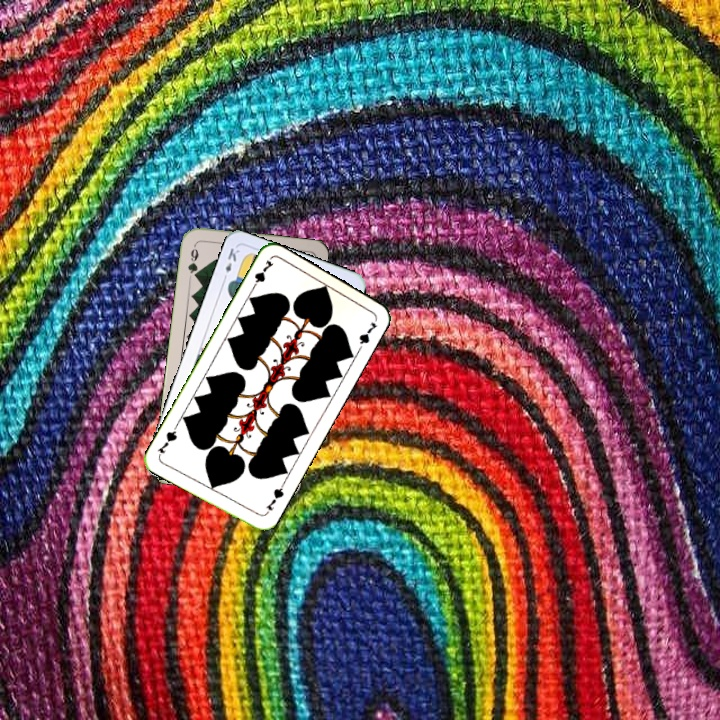EK: (219, 244, 242, 284)
G7: (247, 255, 276, 293), (261, 480, 286, 517)
G9: (184, 240, 201, 281)
